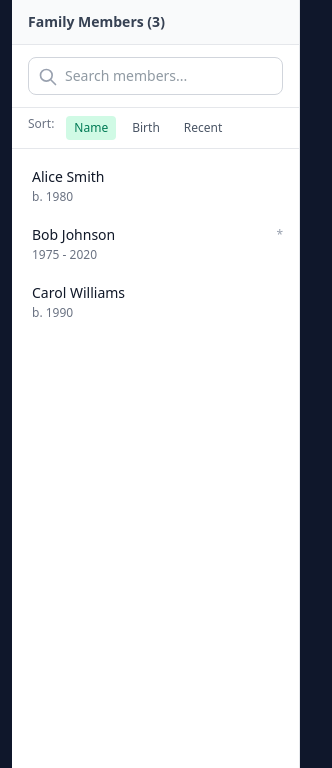
Test: MemberListSidebar › Search › should clear search when clicking clear button
In the field with placeholder "Search members...": (156, 76) [28, 57, 283, 95], type "Alice"
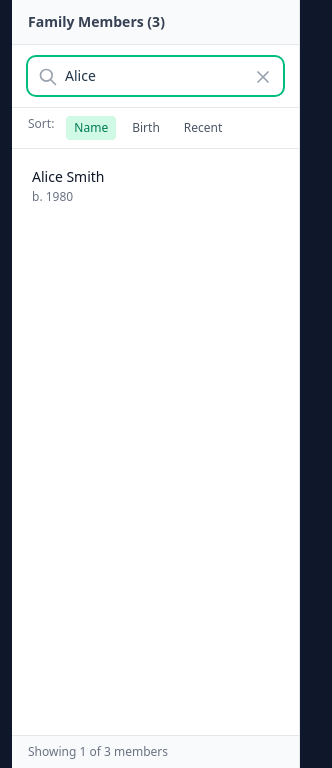
Check: the button "Bob Johnson" is gone
Click the button named "Clear search": (263, 77) [253, 67, 273, 87]
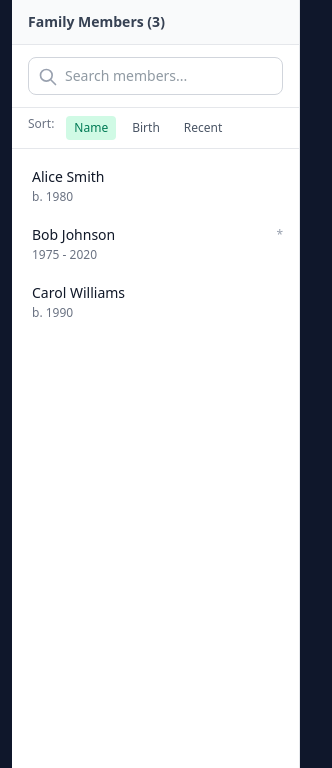
Check: the text "Bob Johnson" is shown, box [32, 225, 115, 245]
